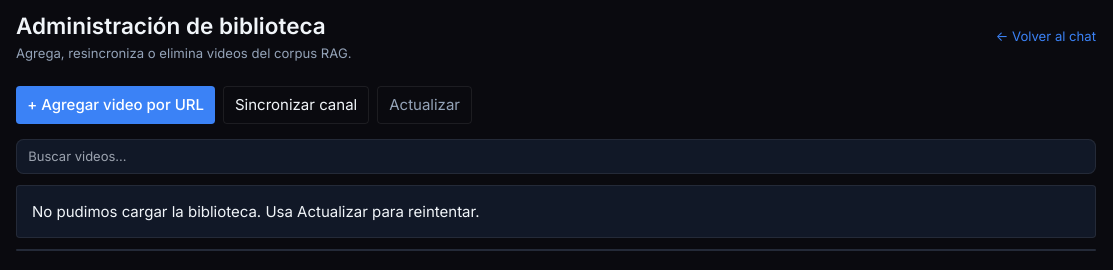
Test: admin library recovery › distinguishes load failure from empty library and recovers
Expected: the message shows "No pudimos cargar la biblioteca", 32,202 -> 480,221
Expected: the text "Aún no hay videos" is not shown
Click the button "Actualizar" at point(425, 104), box 377,86 -> 472,124
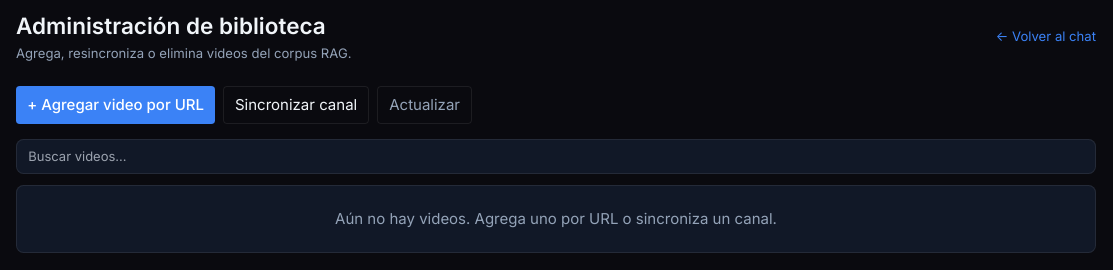
Now the text "Aún no hay videos. Agrega uno por URL o sincroniza un canal." is shown, box 335,209 -> 777,228
Now the message "No pudimos cargar la biblioteca. Usa Actualizar para reintentar." is gone
